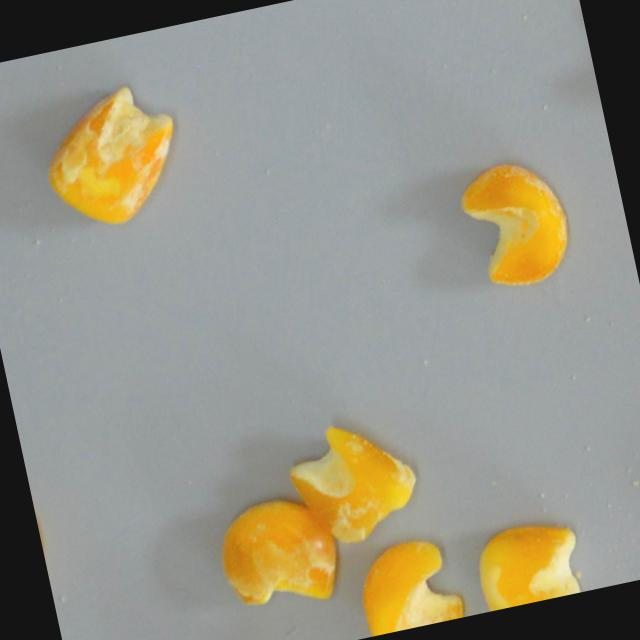no_canjicado: (468, 515, 586, 612)
pelicula: (32, 76, 193, 237), (278, 411, 425, 554), (206, 487, 346, 621), (451, 151, 577, 296), (349, 531, 464, 637)
